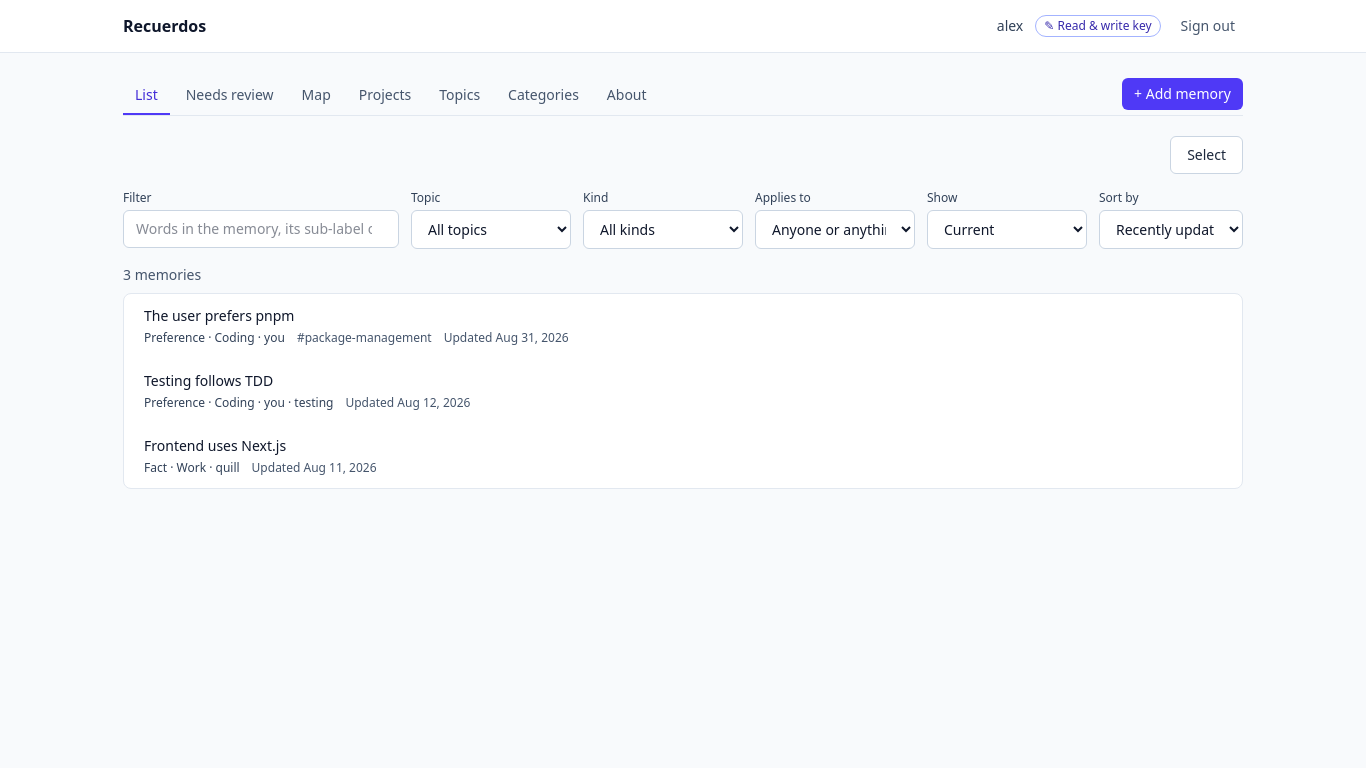
it: editing a memory › saves only what changed, conditional on the version it opened
Check: the text "The user prefers pnpm" is shown, box [144,306,294,325]
Click the button "Testing follows TDD" at x=209, y=380, box [128,359,1242,423]
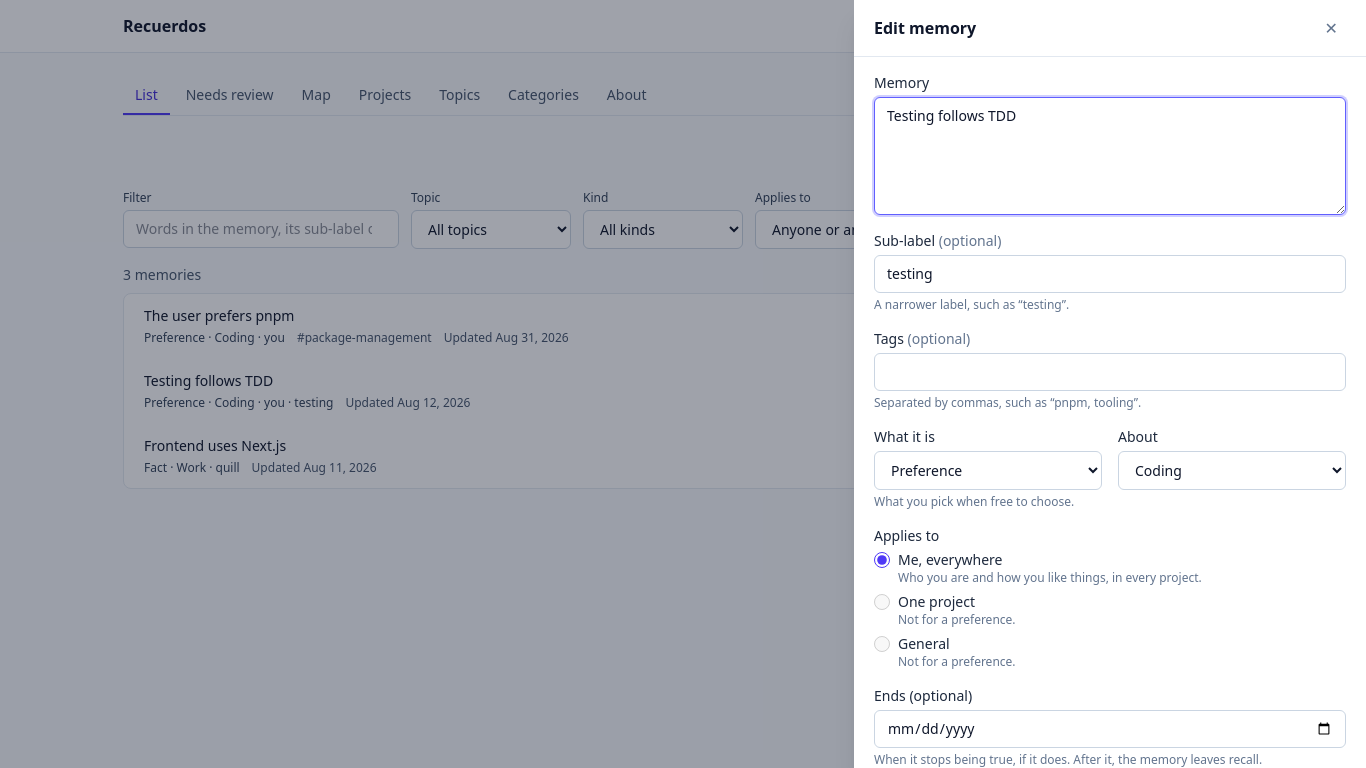
Replace the text in the text box labelled "Memory" with "Testing follows TDD, with Vitest" at x=1110, y=156, box [874,97,1346,215]
(page scrolled)
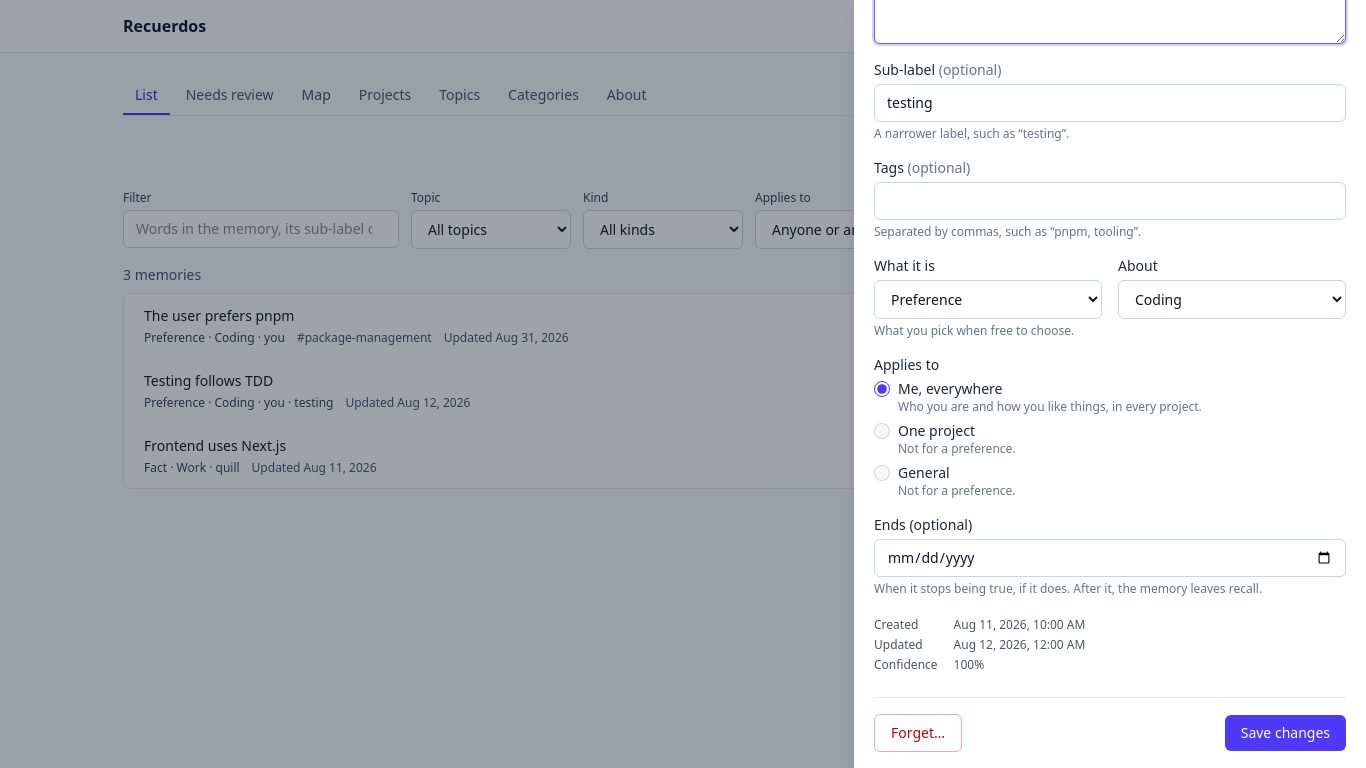
Click the button "Save changes" at x=1285, y=733, box [1225,715,1346,751]
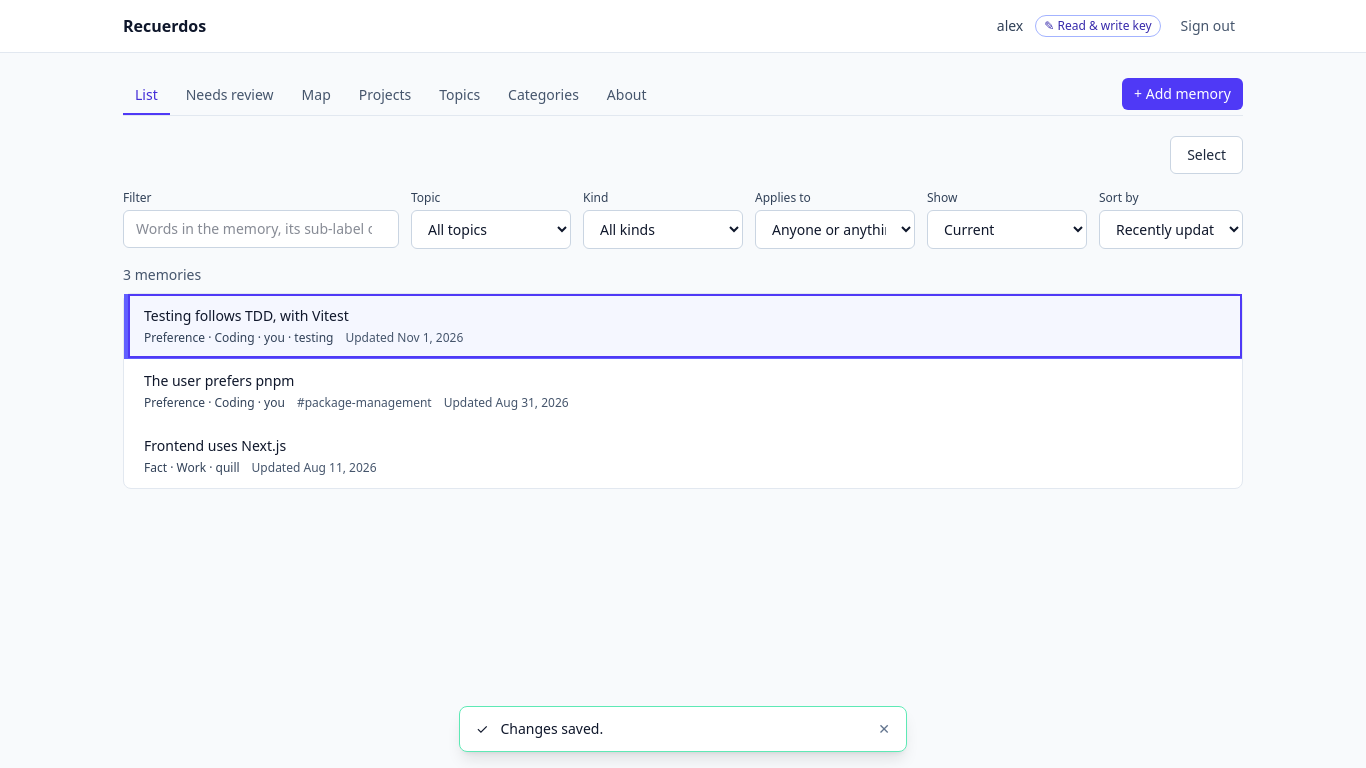
Check: the text "Changes saved." is shown, box [500,719,603,738]
Check: the dialog is gone
Check: the text "Testing follows TDD, with Vitest" is shown, box [143,305,349,325]
